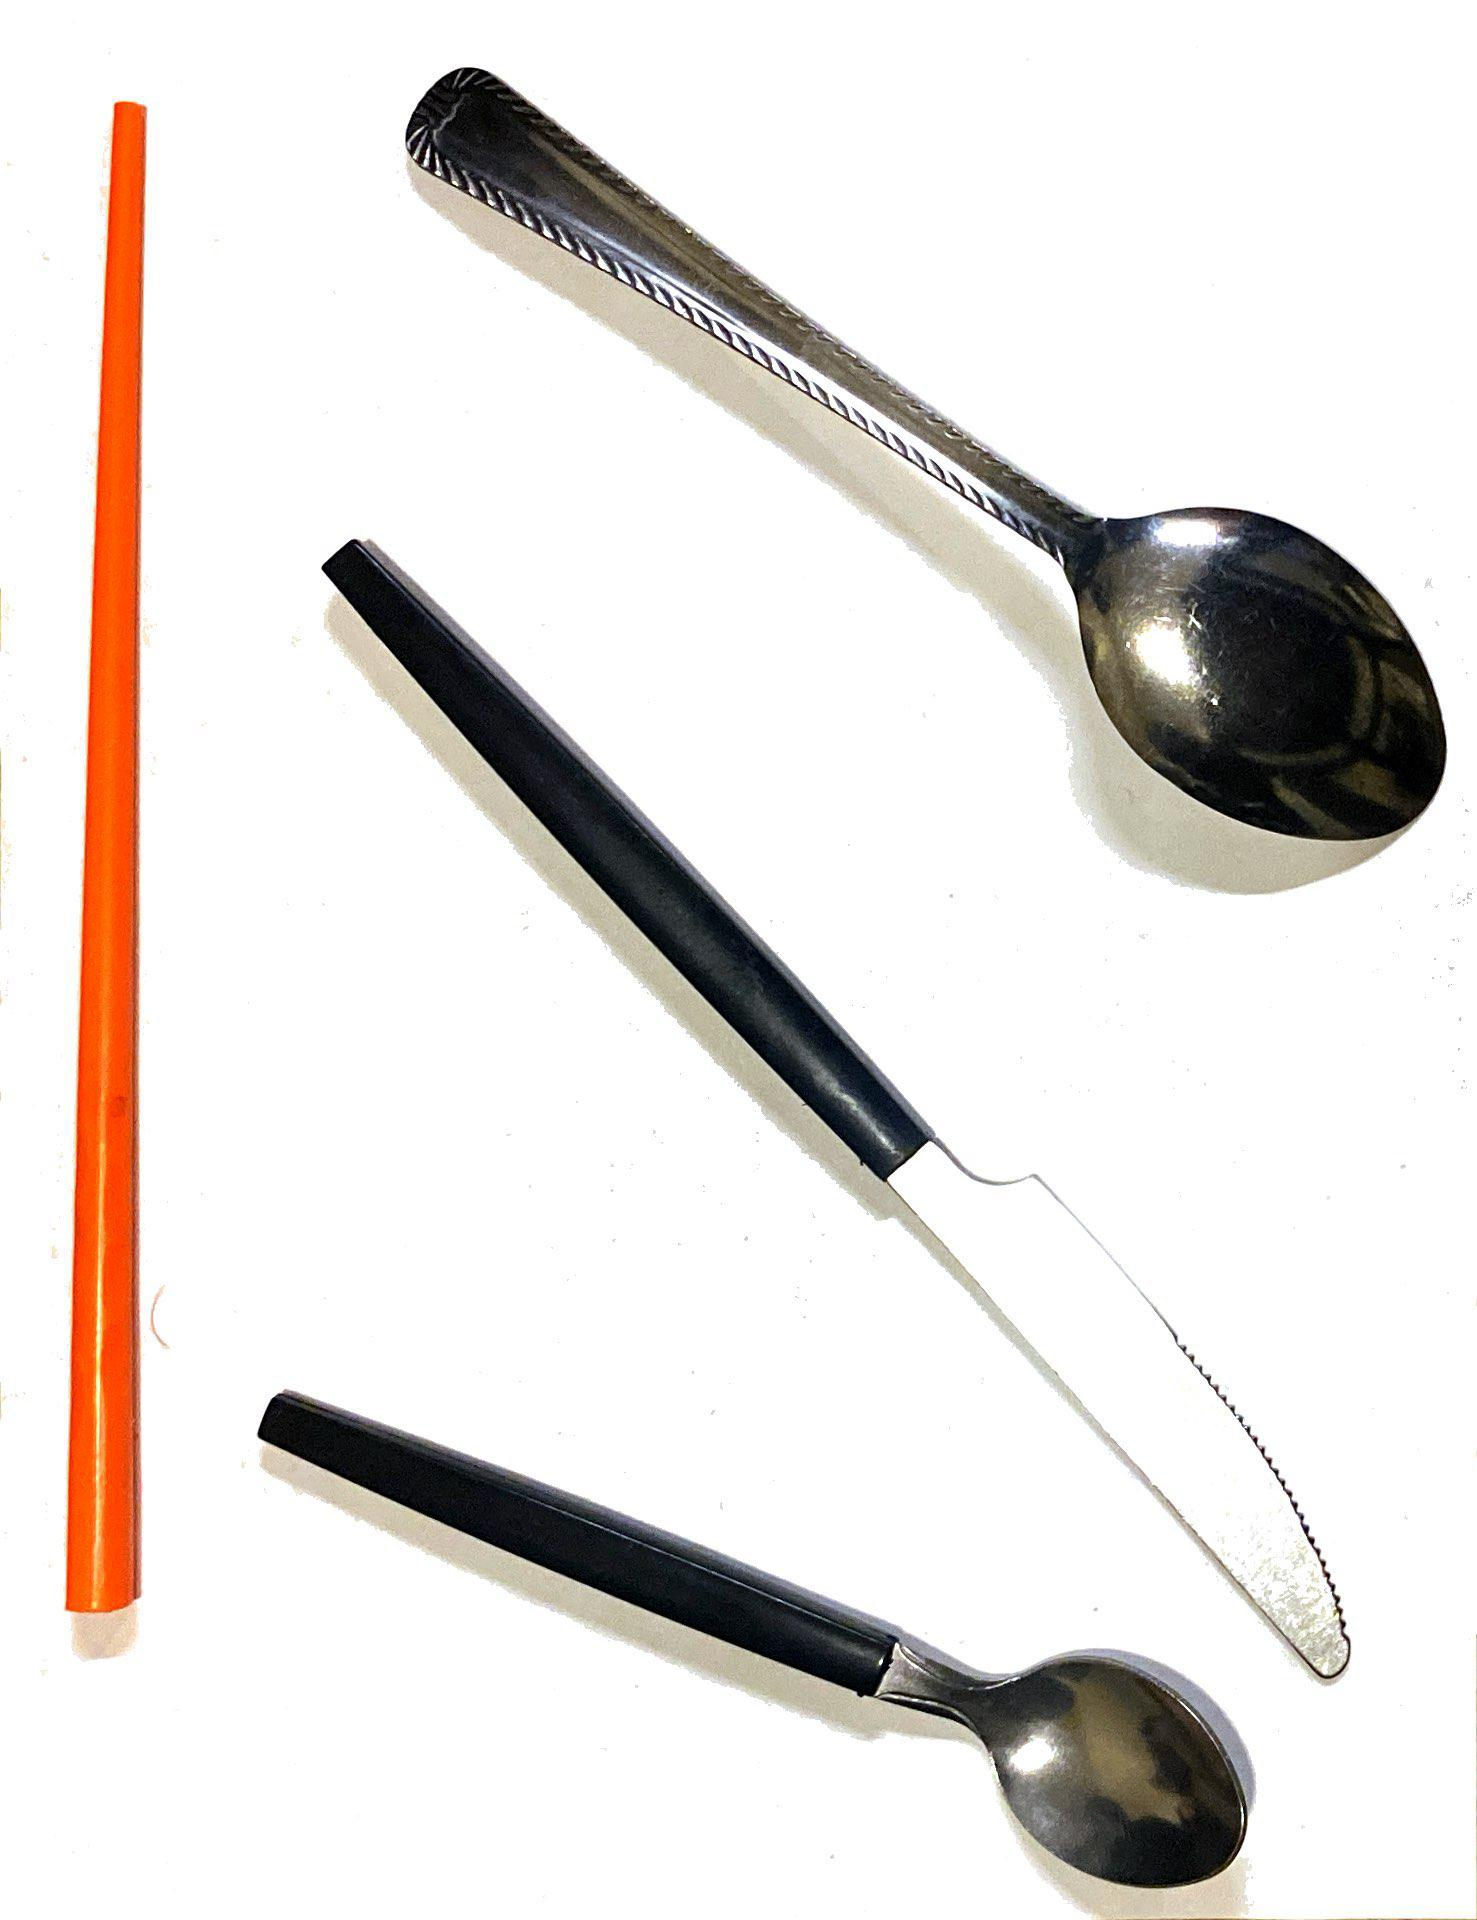Chopstick: (29, 67, 223, 1642)
Knife: (279, 502, 1420, 1690)
Spoon: (393, 33, 1460, 858), (239, 1338, 1272, 1897)
